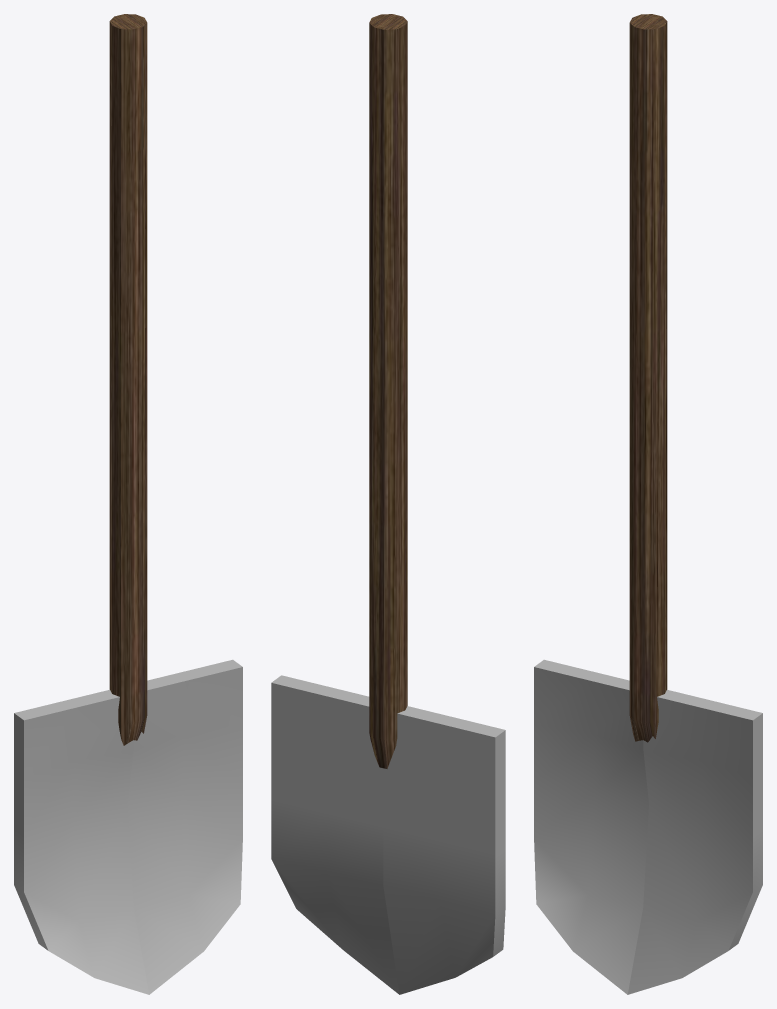
File: spaten.fbx
3 renders of one model, left to right at view 1: azimuth 30°, elevation 25°; view 2: azimuth 150°, elevation 25°; view 3: azimuth 330°, elevation 25°, orthographic. The views are drawn at different scales.
Parts seen in each view (by area): view 1: schaufel, stiel1; view 2: schaufel, stiel1; view 3: schaufel, stiel1.
Part boxes in pixels (x1=…): schaufel: x1=14, y1=659, x2=242, y2=994; stiel1: x1=109, y1=14, x2=147, y2=745; schaufel: x1=271, y1=675, x2=505, y2=994; stiel1: x1=369, y1=14, x2=407, y2=768; schaufel: x1=534, y1=659, x2=762, y2=994; stiel1: x1=629, y1=14, x2=667, y2=742.
Bounding box in the file's own units: 2 × 8.37 × 0.4714.
Materials: 2 (1 with a texture image).
